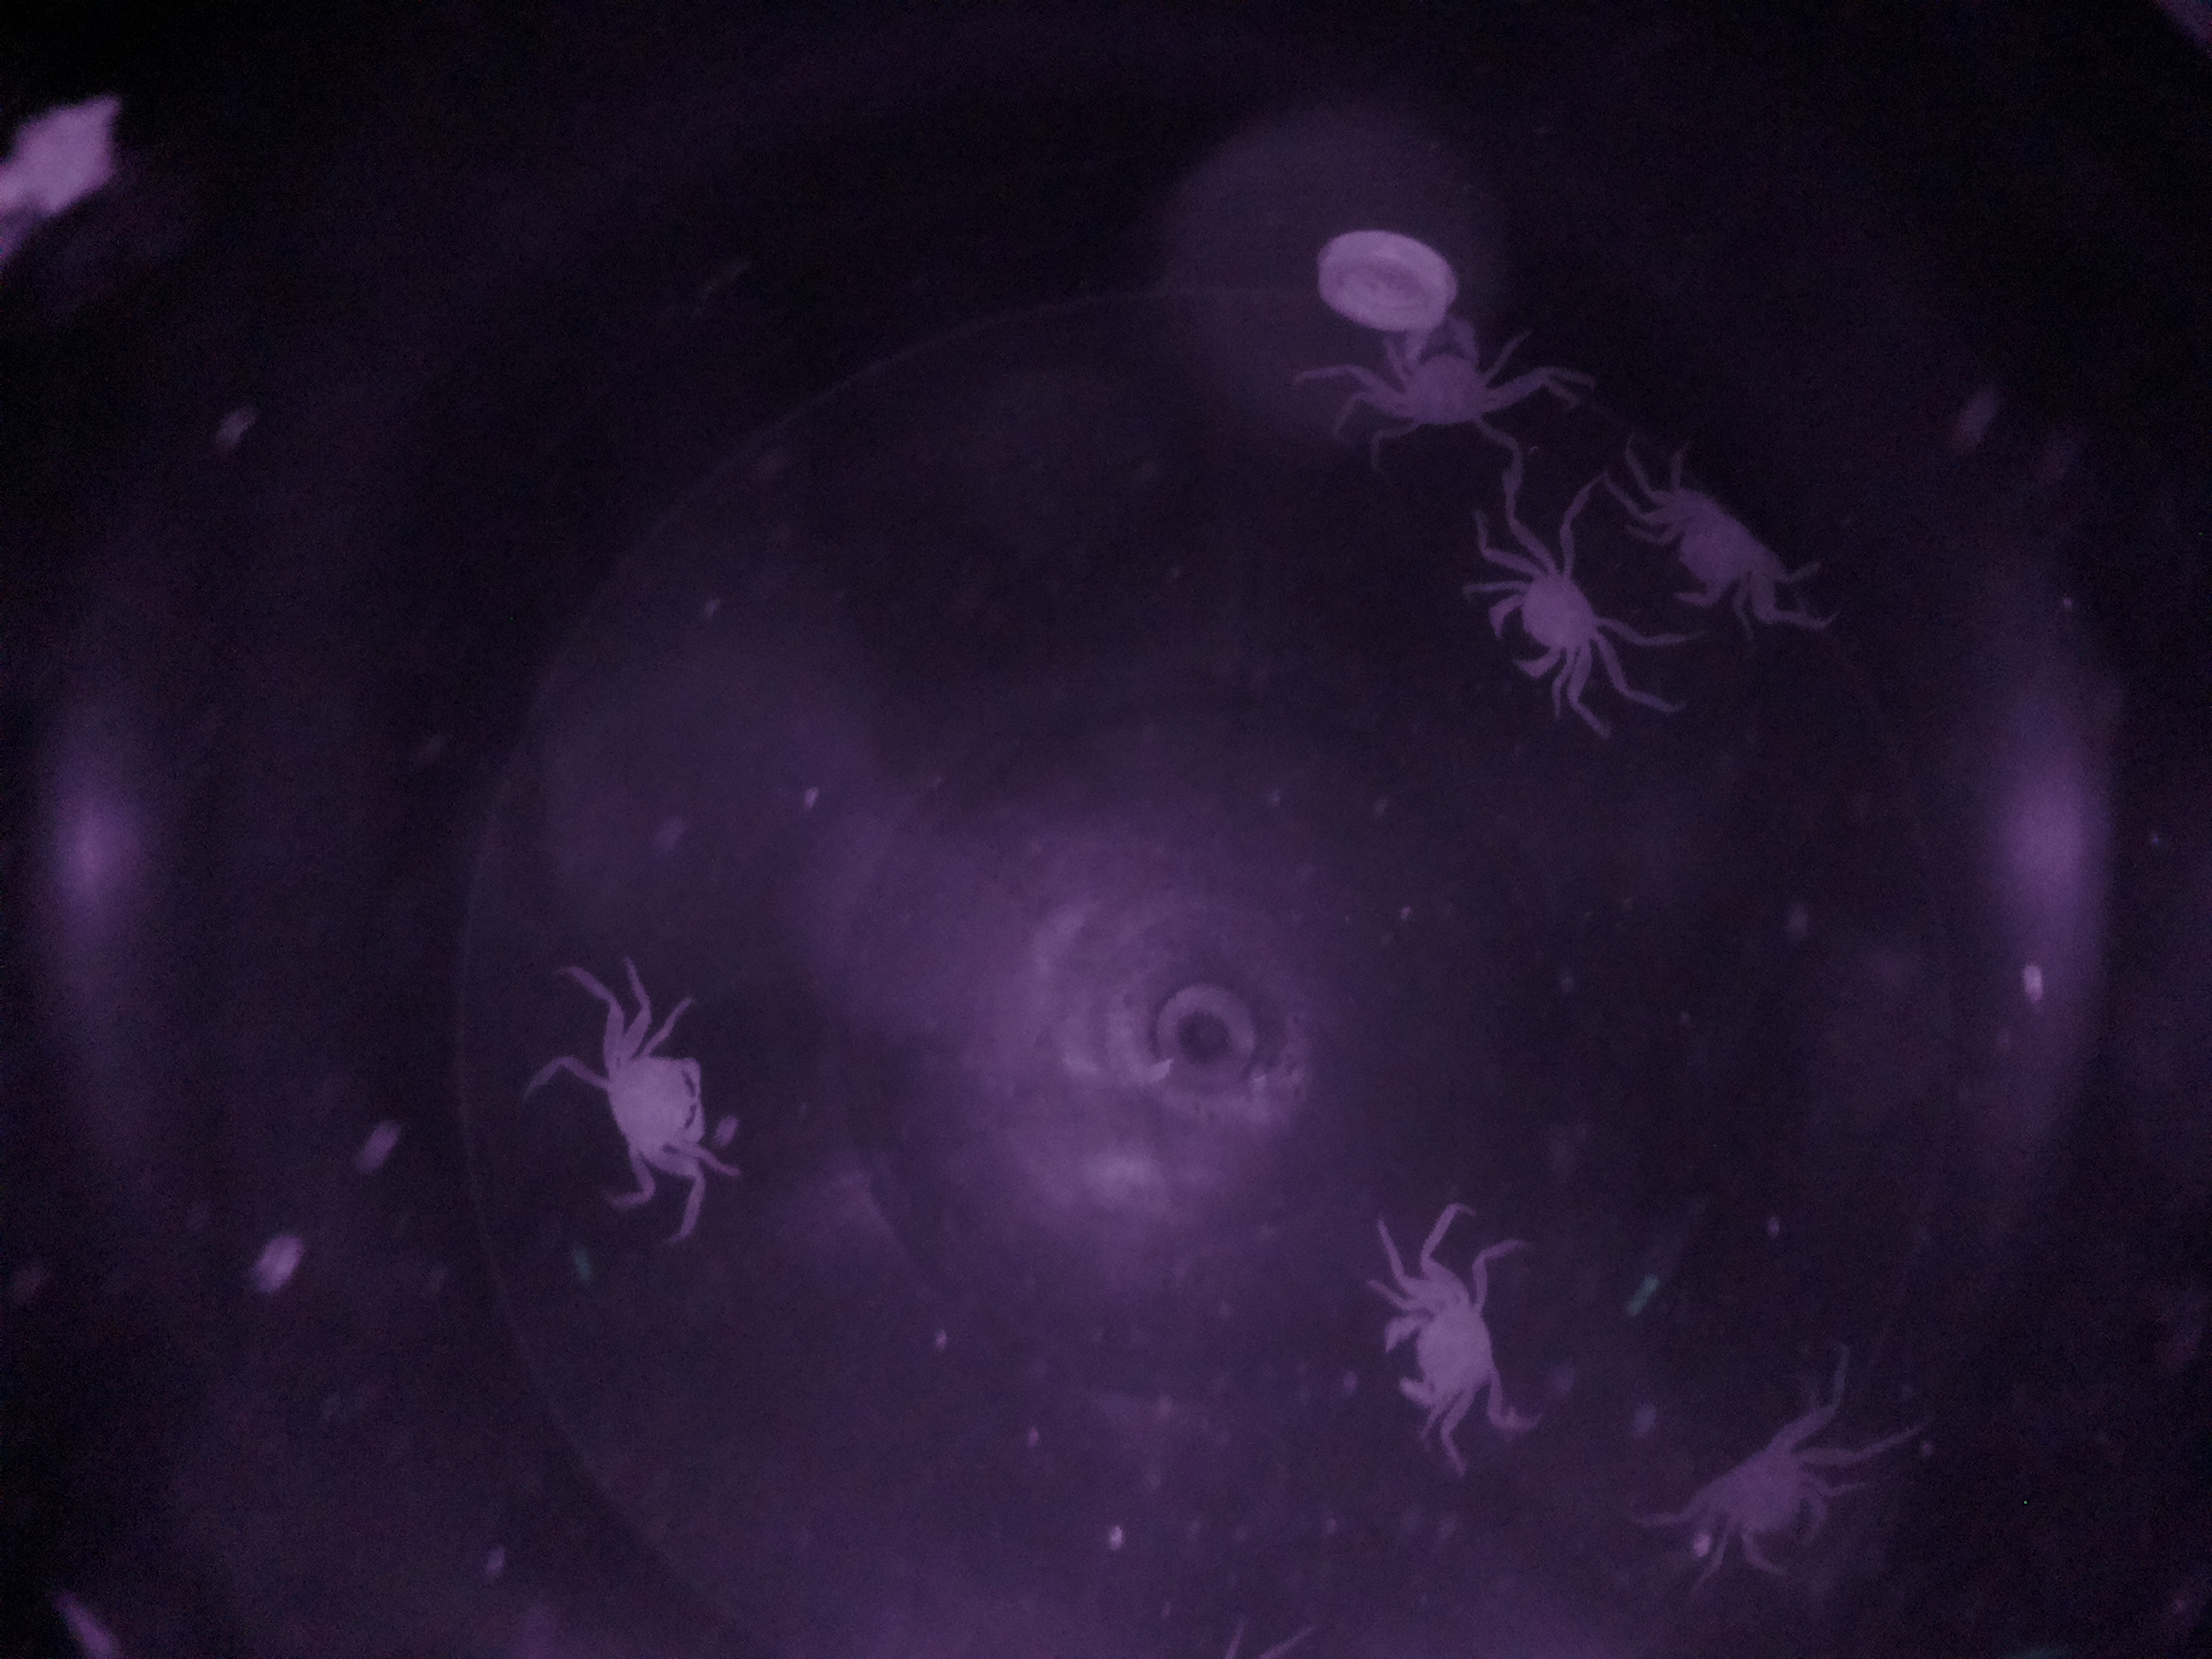Crab: (1658, 1399, 1843, 1596), (1355, 1262, 1548, 1446), (570, 1012, 738, 1201), (1463, 540, 1627, 732)
